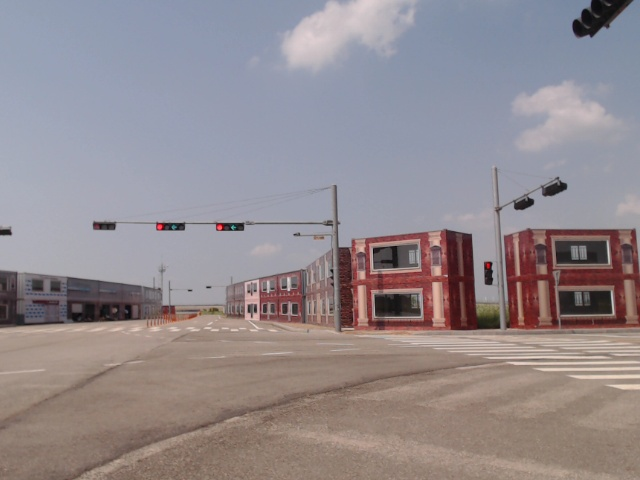left_green_4: (156, 223, 185, 232), (216, 223, 244, 231)
